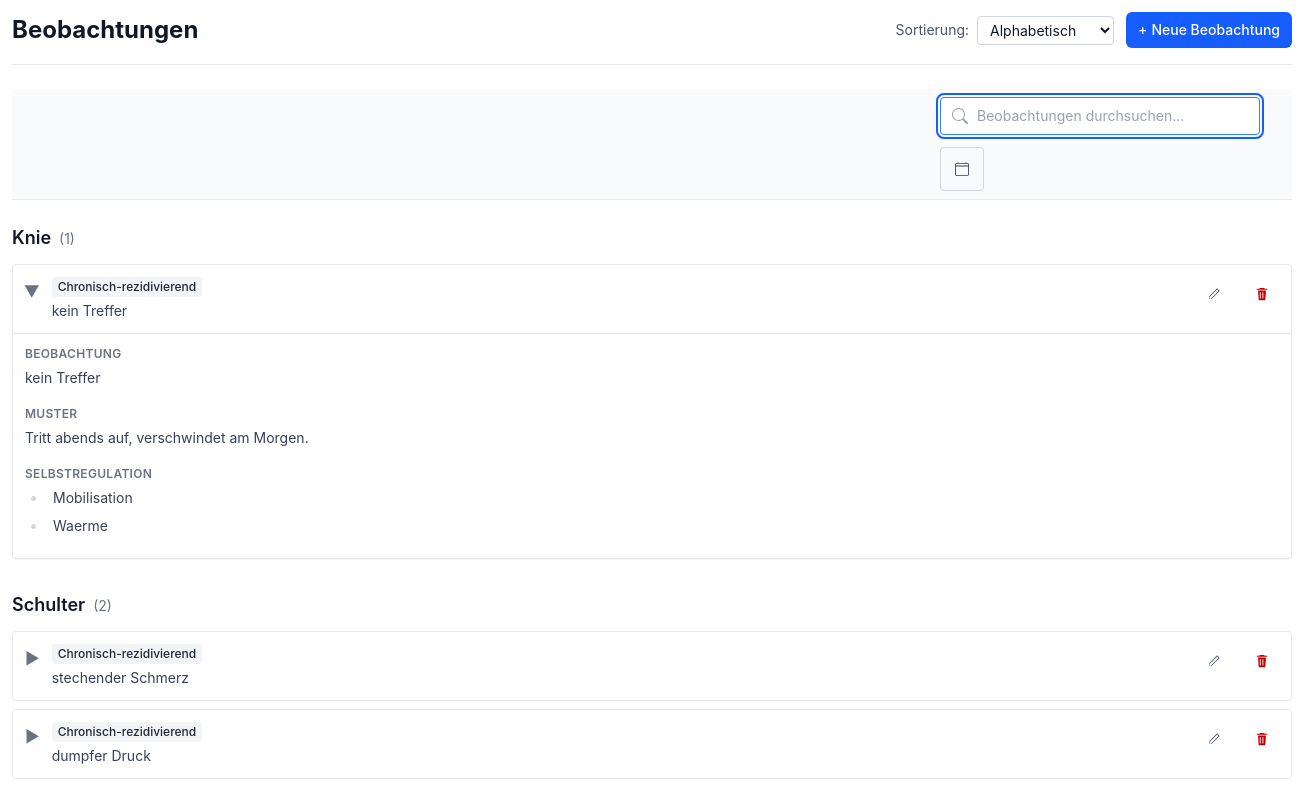
Test: ObservationsView › search (O-17) › filters by theme + fact + pattern, hides non-matching groups, shows match count
Type "stechend" into the search field at {"x": 1100, "y": 116}, box [940,97,1260,135]
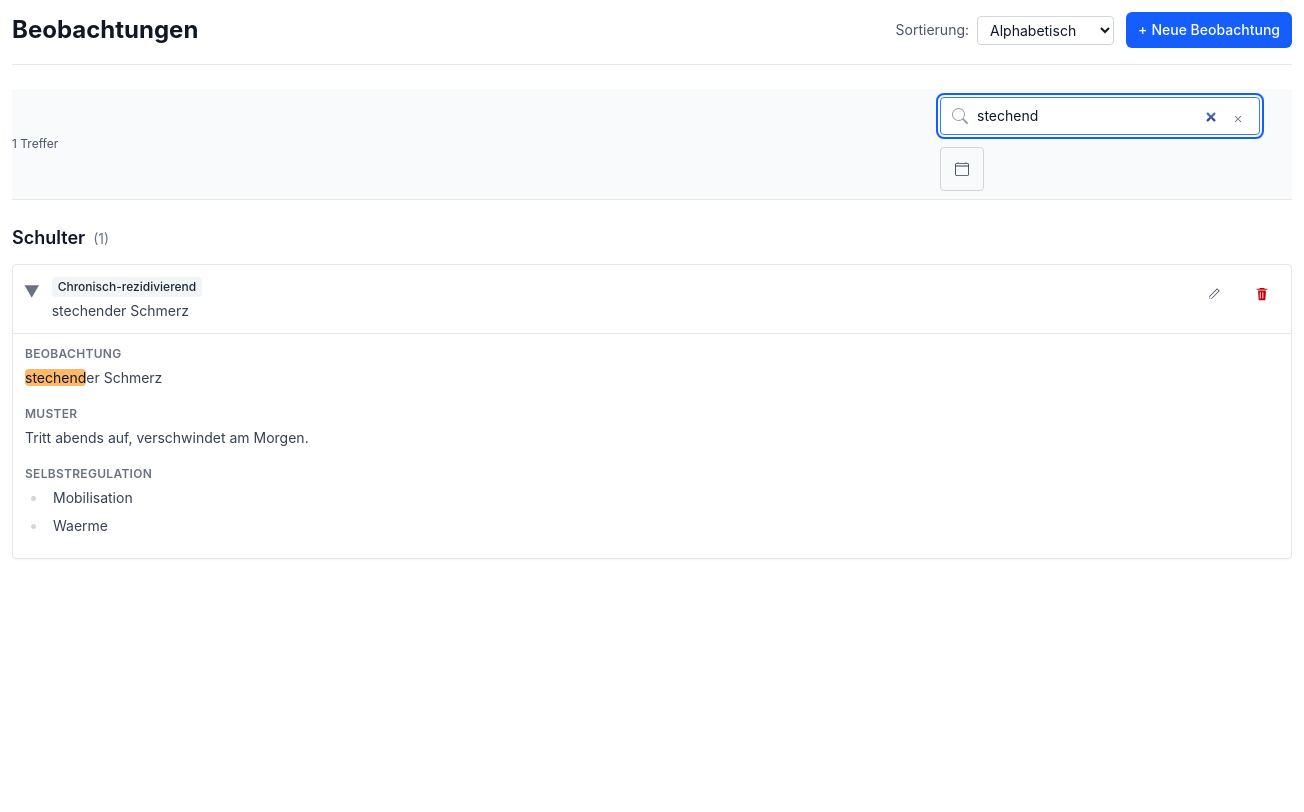
Expected: the heading "Schulter (1)" is shown, [12,227,109,248]
Expected: the message with test id "search-match-count" reads "1 Treffer", [12,136,58,151]
Expected: the text "Knie" is gone
